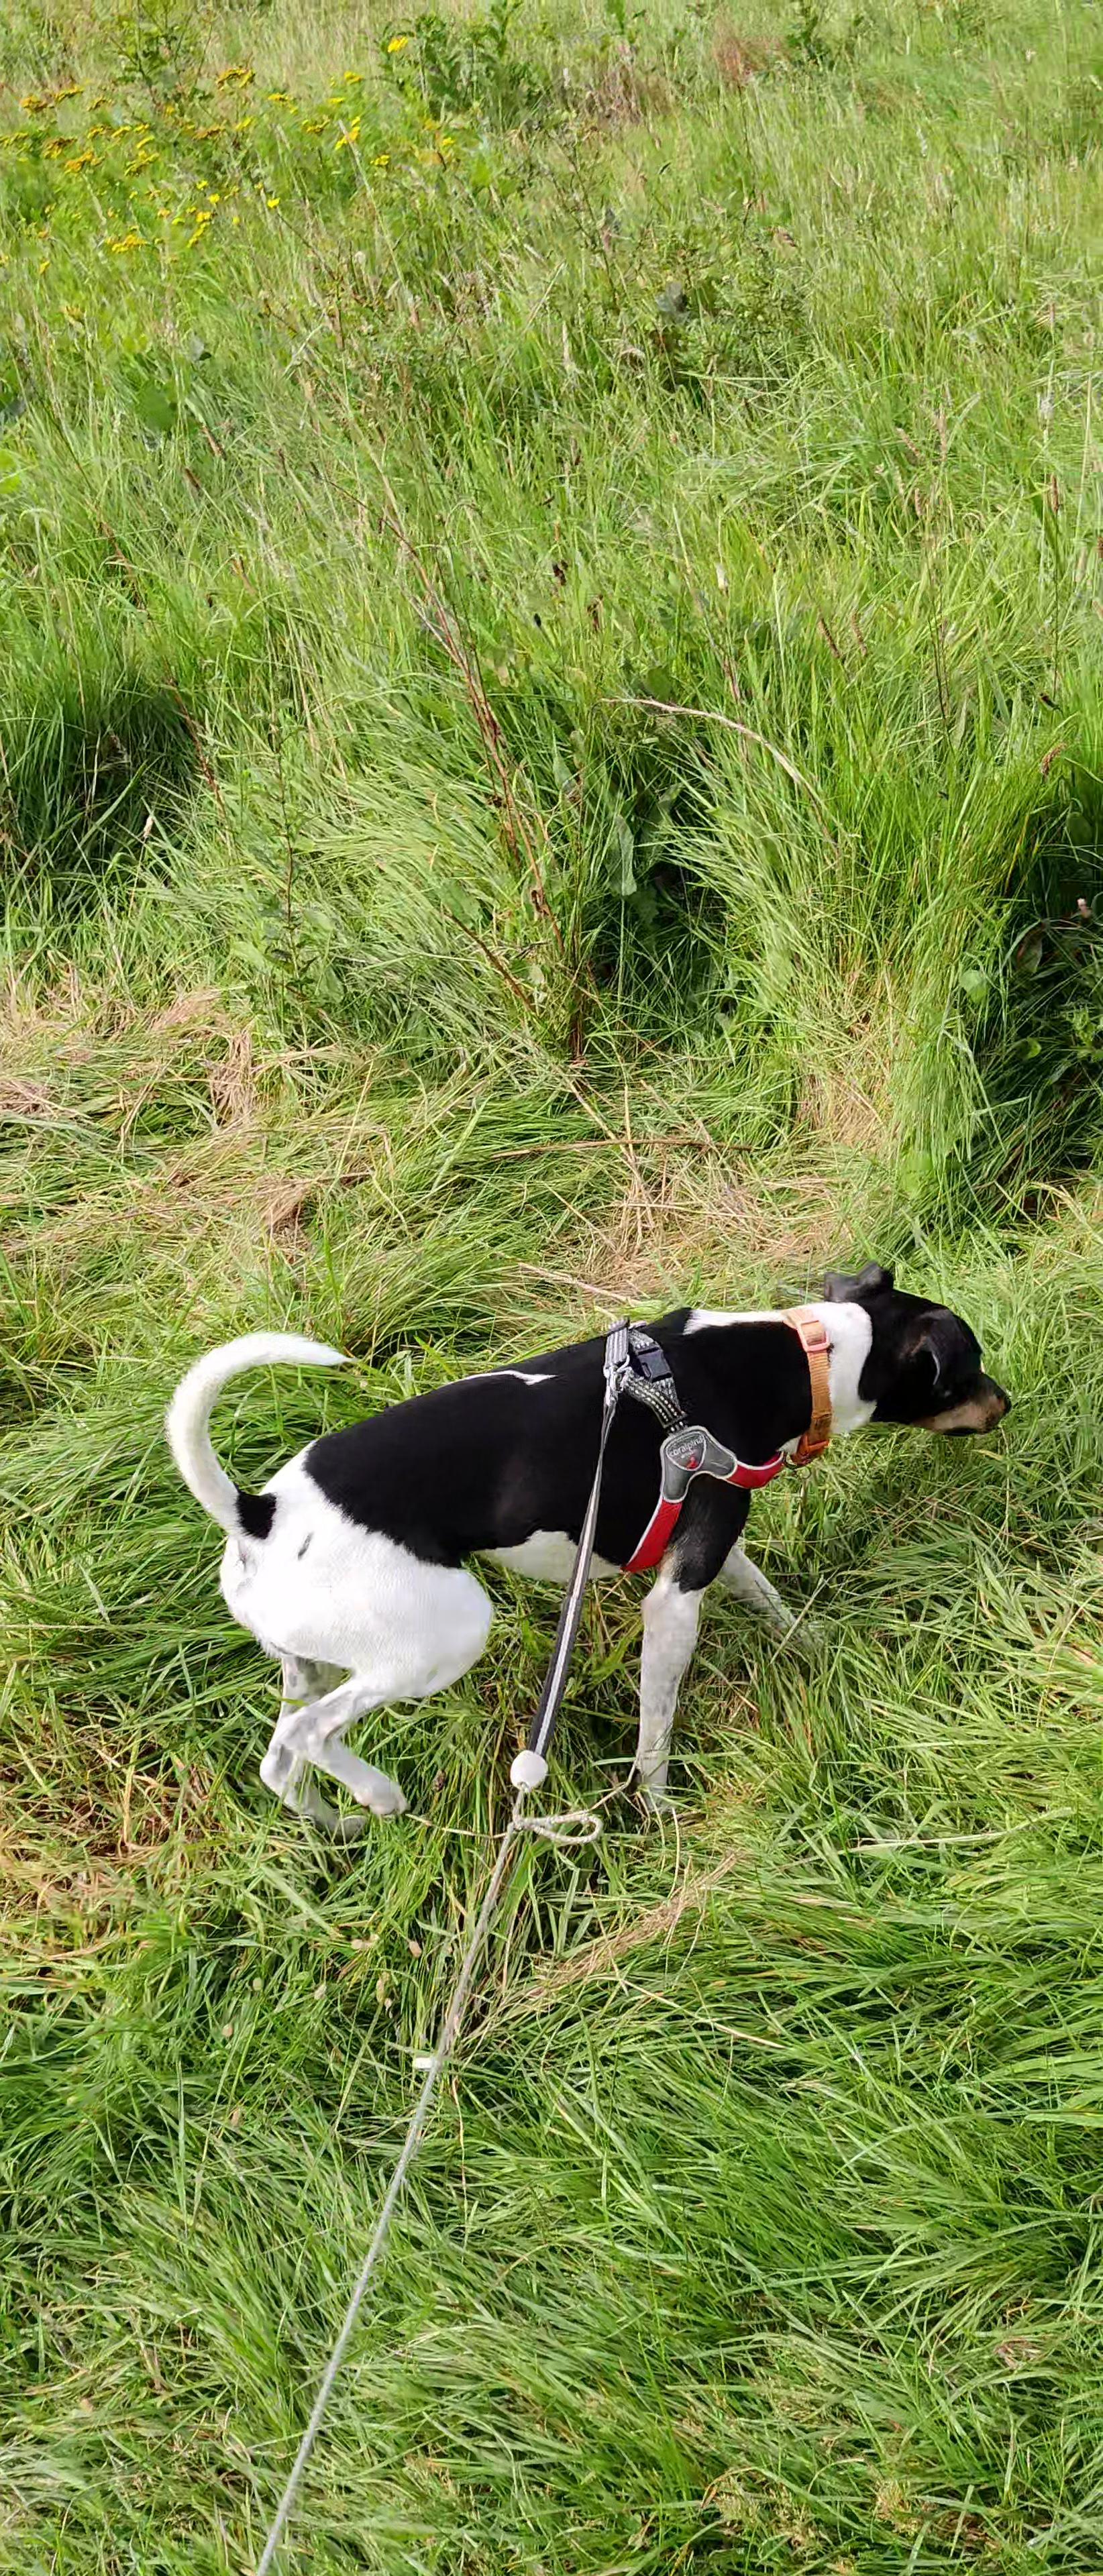Dog: (161, 1257, 1016, 1835)
